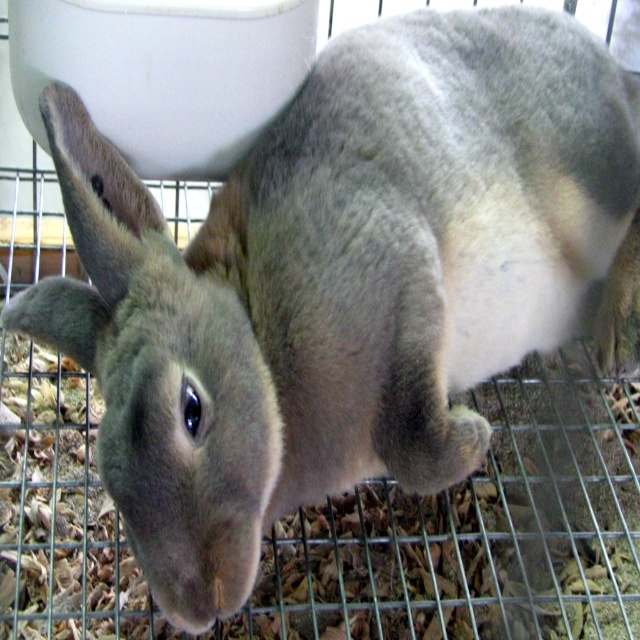Rabbit: (0, 4, 640, 637)
